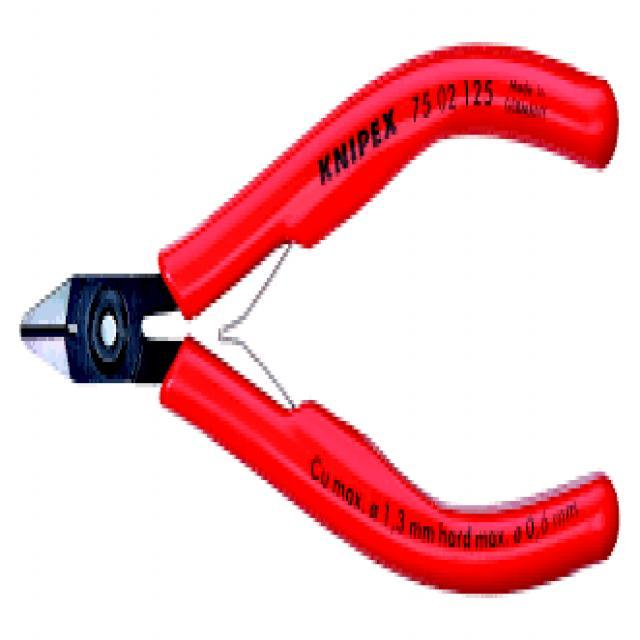pliers: (0, 23, 623, 596)
